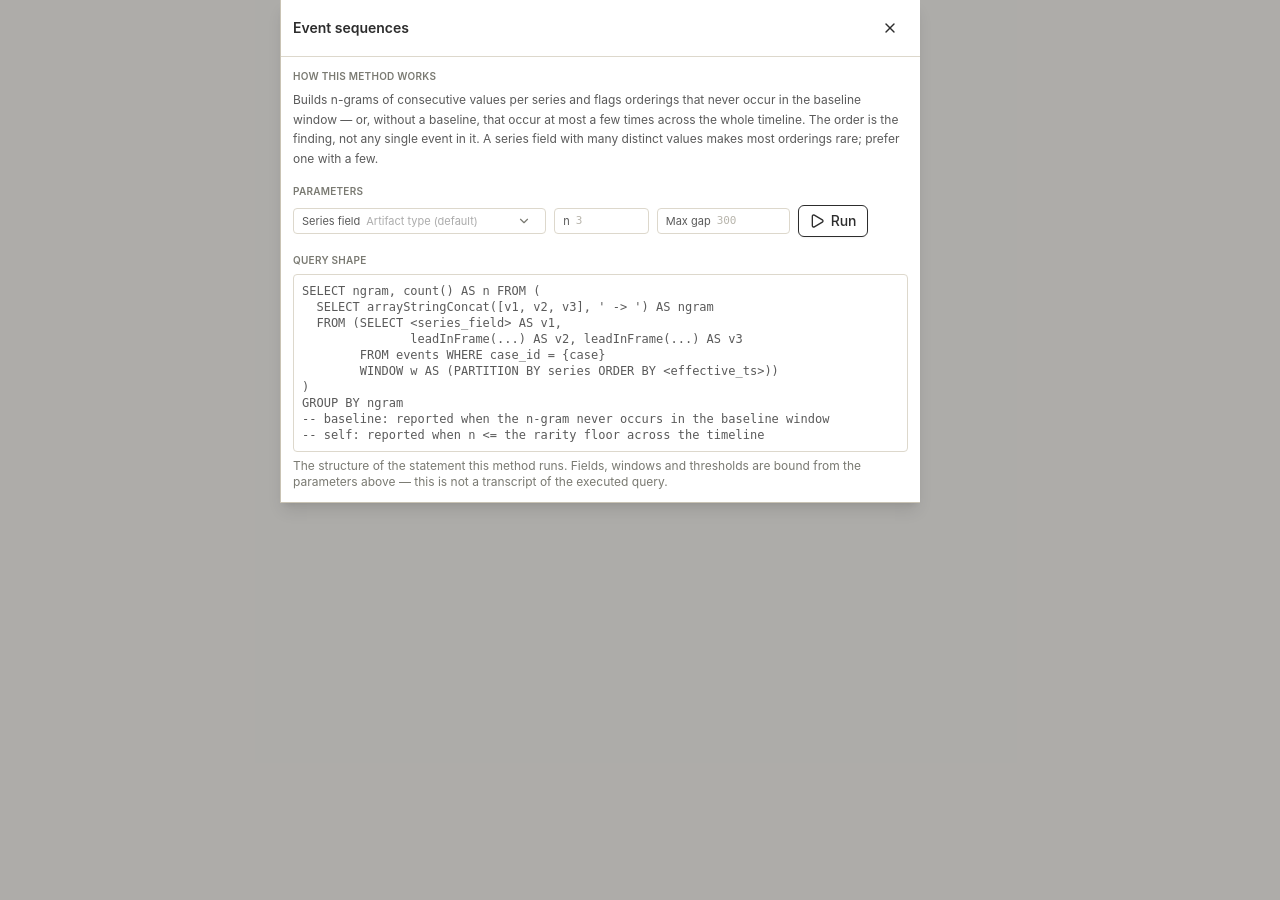
InvestigateSheet › offers a single-field knob as this timeline's own fields
The width and height of the screenshot is (1280, 900).
Focus the dropdown with test id "method-knob-series_field" at x=452, y=221, box [366, 213, 537, 229]
(page scrolled)
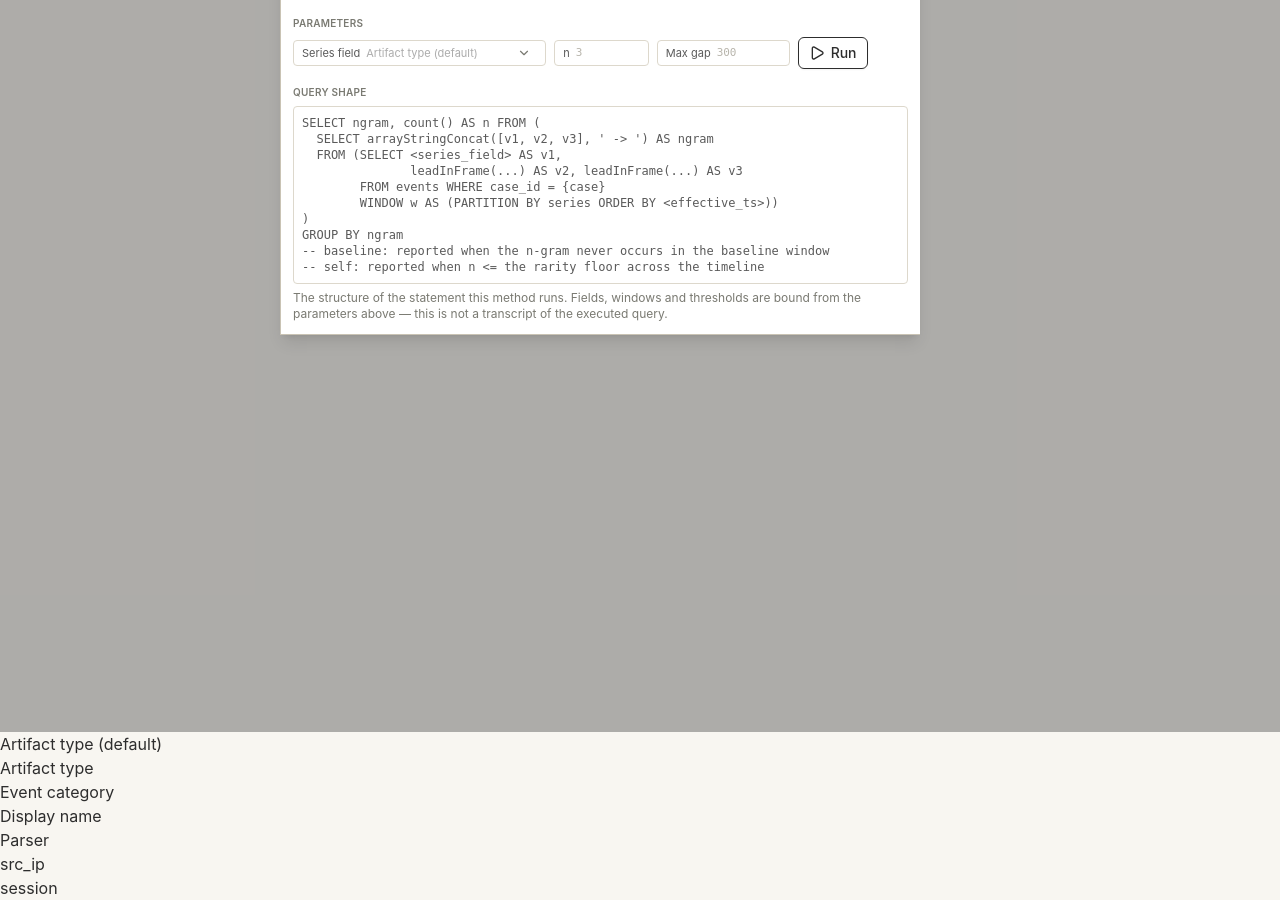
Expected: the option "Artifact type" is shown, [0, 758, 94, 778]
Expected: the option "src_ip" is shown, [0, 854, 45, 874]
